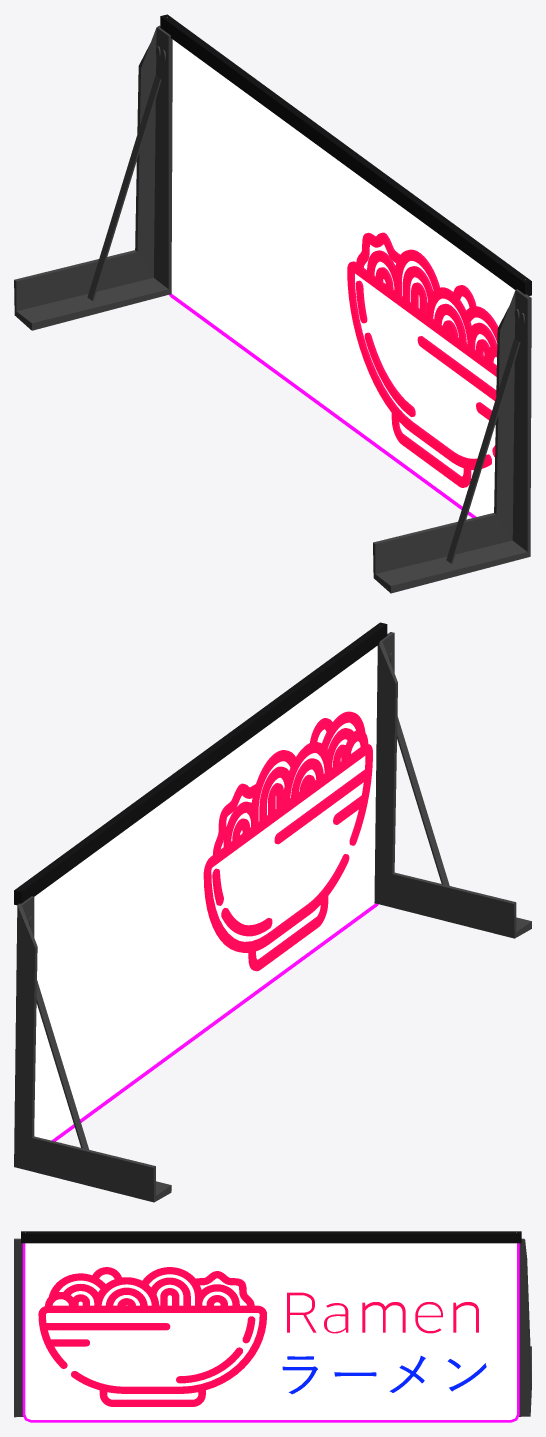
The model's file is low_poly_cartel_neon_3.fbx.
The picture shows the model from 3 angles, top to bottom: view 1: azimuth 30°, elevation 25°; view 2: azimuth 150°, elevation 25°; view 3: azimuth 270°, elevation 25°; orthographic projection. The views are drawn at different scales.
Visible parts, largest first — view 1: Text.001; view 2: Text.001; view 3: Text.001.
Part boxes in pixels (bbox=[...]): Text.001: bbox=[14, 14, 531, 593]; Text.001: bbox=[14, 622, 531, 1202]; Text.001: bbox=[14, 1231, 531, 1422].
Bounding box in the file's own units: 88.1 × 160 × 394.
